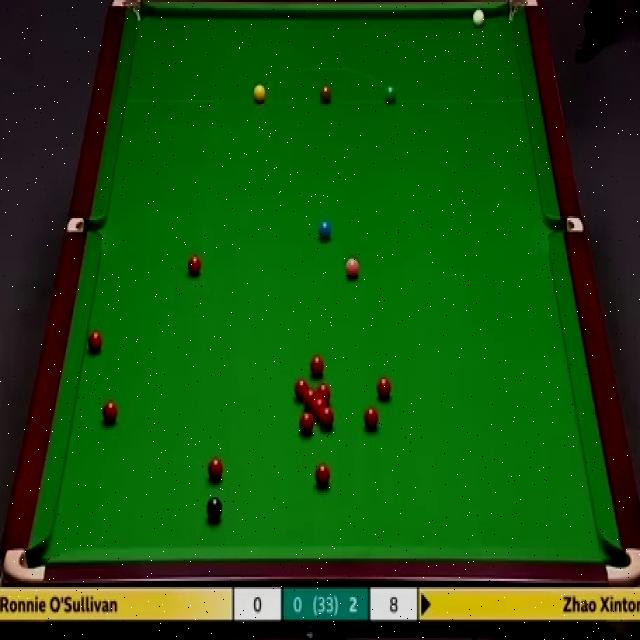black-ball: (207, 496, 224, 519)
blue-ball: (318, 218, 332, 244)
brown-ball: (319, 83, 332, 103)
green-ball: (384, 84, 397, 103)
pink-ball: (345, 259, 361, 281)
red-ball: (86, 329, 105, 356), (314, 462, 332, 489), (100, 397, 117, 424), (362, 406, 380, 431), (293, 376, 311, 401), (308, 354, 327, 377), (208, 456, 225, 481), (318, 408, 336, 431), (374, 377, 392, 399), (299, 410, 314, 435), (316, 384, 332, 407), (303, 389, 319, 410), (187, 257, 202, 275), (312, 399, 326, 417)
white-ball: (472, 8, 487, 28)
yellow-ball: (252, 83, 266, 103)
